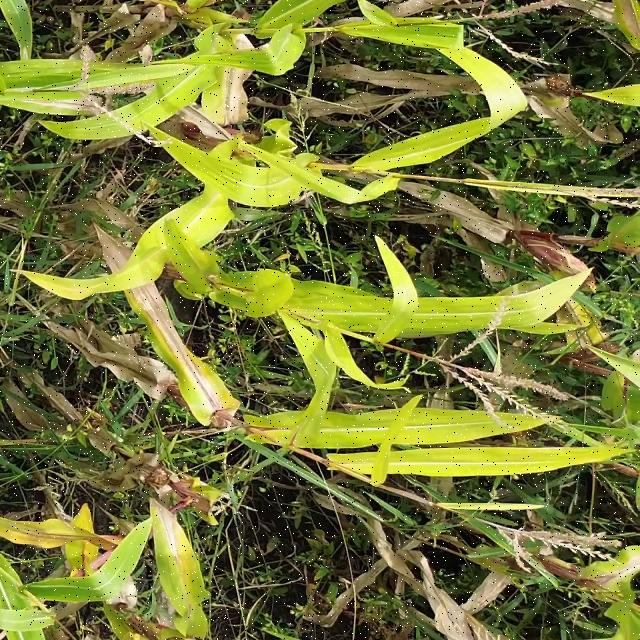northern-leaf-blight: (90, 227, 250, 425), (149, 497, 213, 616), (0, 506, 140, 552)
southern-leaf-blight: (8, 22, 93, 96)
